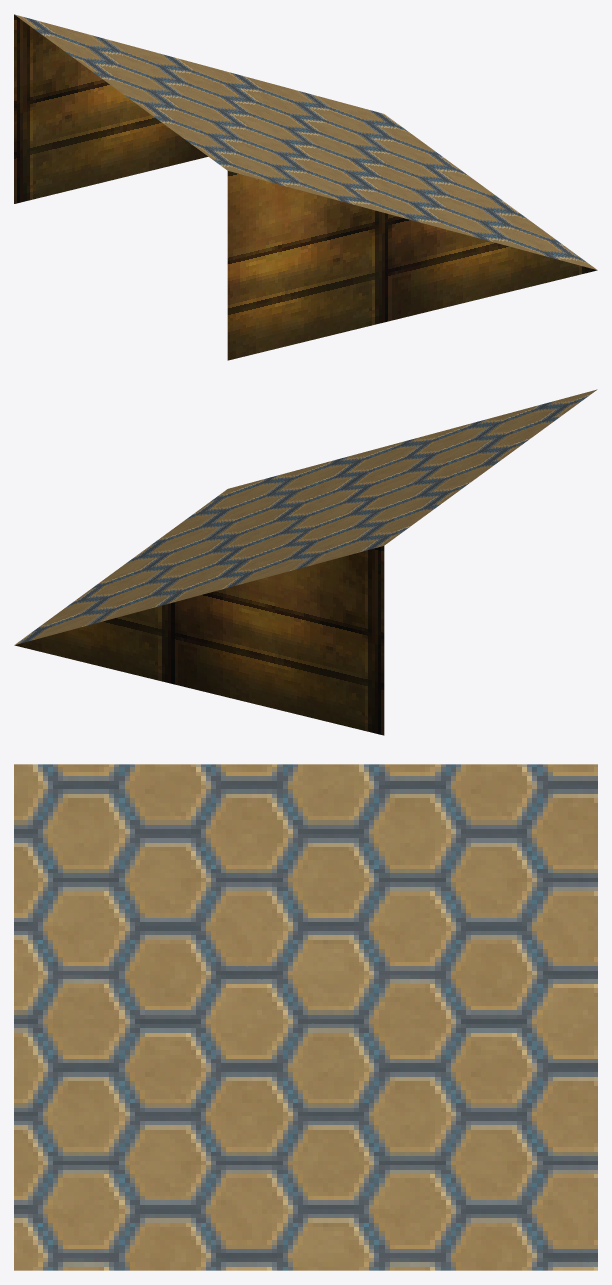
The model's file is Ramp_Main.FBX.
3 views of the same model, one above another, from view 1: azimuth 30°, elevation 25°; view 2: azimuth 150°, elevation 25°; view 3: azimuth 270°, elevation 25° (orthographic). The views are drawn at different scales.
Visible parts, largest first — view 1: Box001; view 2: Box001; view 3: Box001.
Part boxes in pixels (x1,y1,x2,y2): Box001: [14, 14, 597, 360]; Box001: [14, 389, 597, 735]; Box001: [14, 764, 597, 1270].
Bounding box in the file's own units: 59.67 × 29.24 × 59.67.
